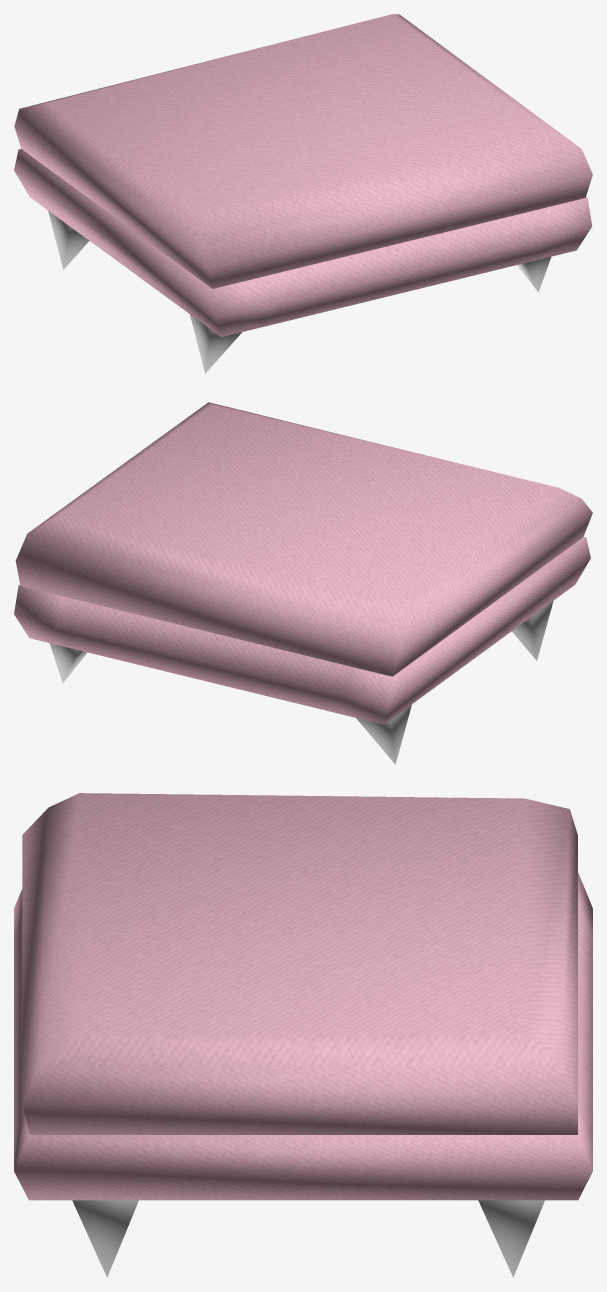
Rendered from Ottoman_A_11.FBX.
3 renders of one model, top to bottom at view 1: azimuth 30°, elevation 25°; view 2: azimuth 150°, elevation 25°; view 3: azimuth 270°, elevation 25°, orthographic. The views are drawn at different scales.
Parts seen in each view (by area): view 1: Ottoman; view 2: Ottoman; view 3: Ottoman.
Part boxes in pixels (x1,y1,x2,y2): Ottoman: [14, 14, 592, 373]; Ottoman: [14, 402, 592, 764]; Ottoman: [14, 793, 592, 1277].
Bounding box in the file's own units: 190 × 80.28 × 173.
